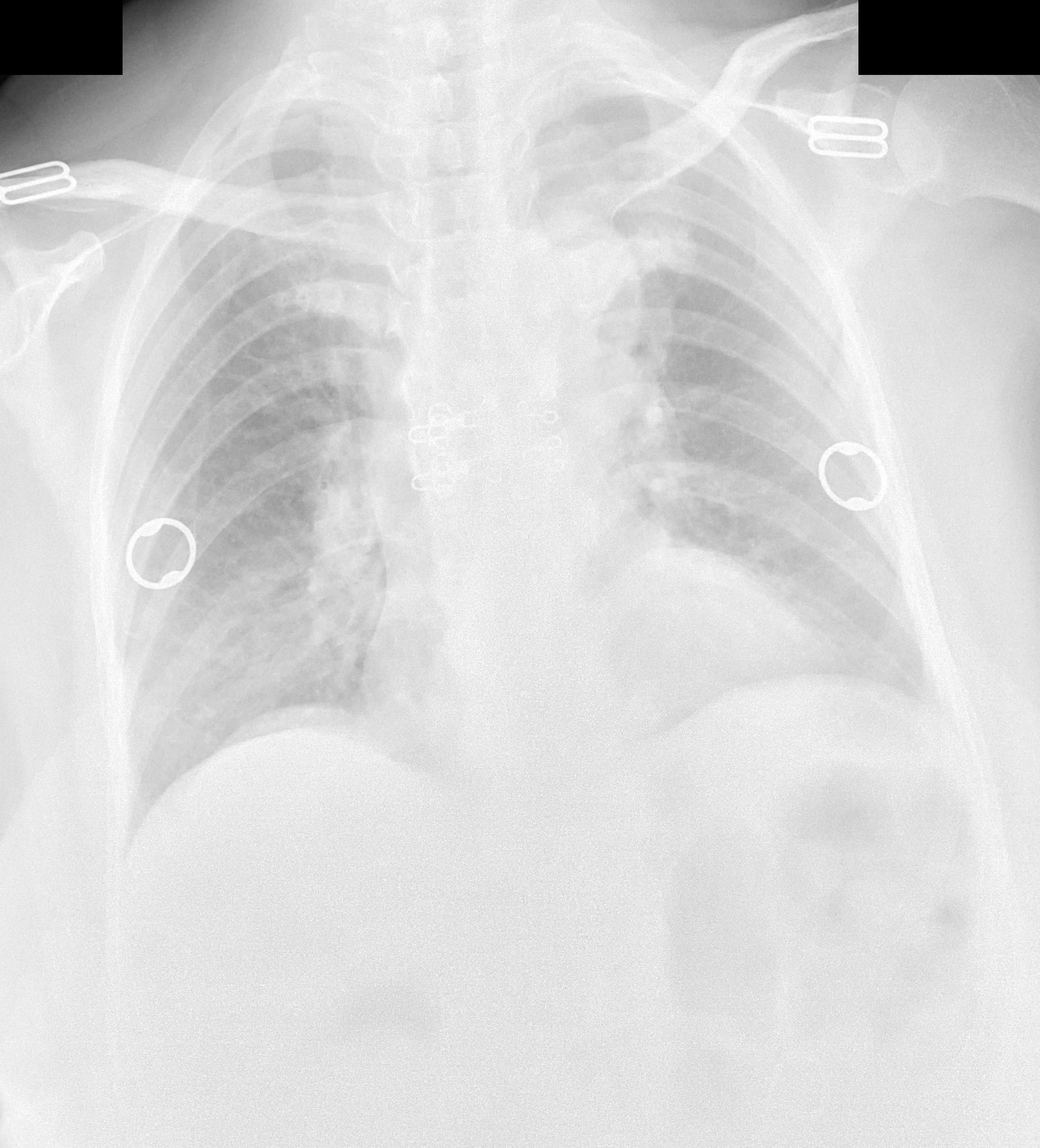Aortic enlargement: (498, 203, 644, 458)
Cardiomegaly: (358, 597, 846, 742)
